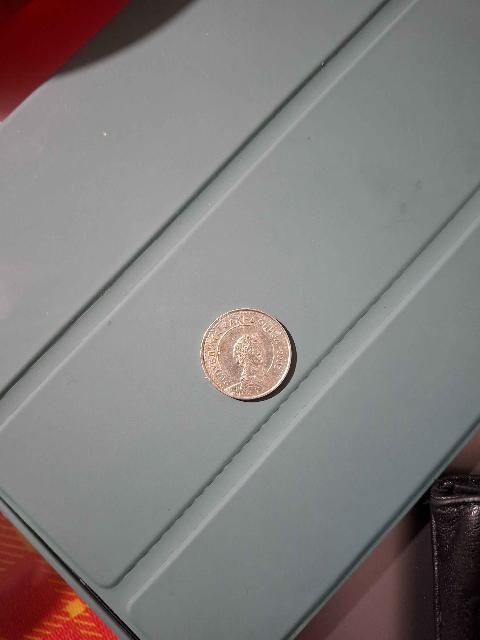50_coin: (203, 311, 290, 398)
